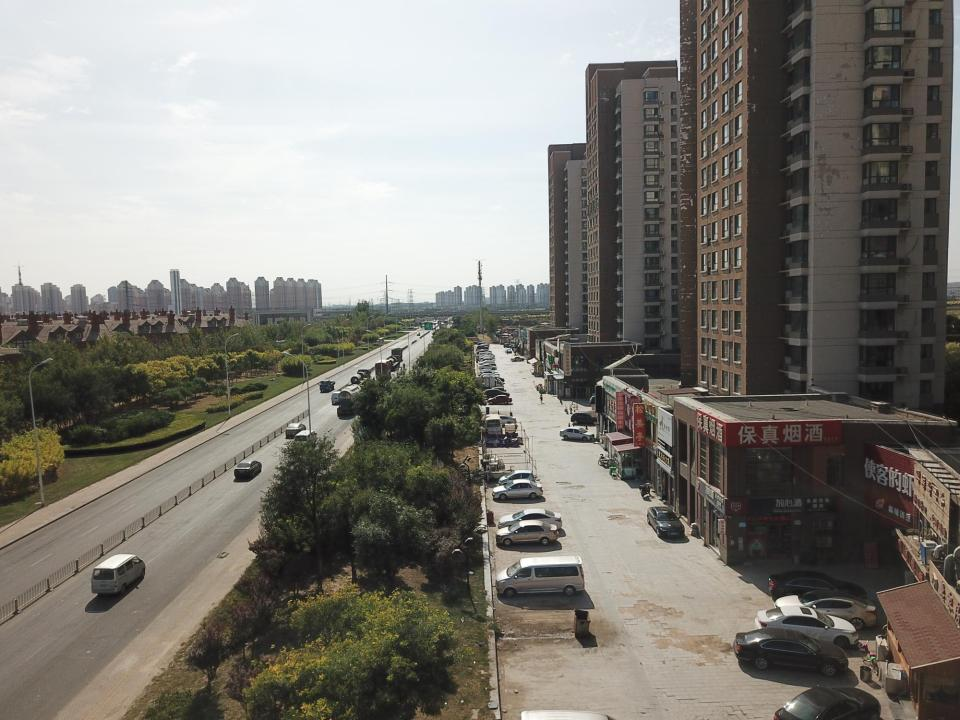car: (722, 628, 850, 679), (754, 600, 862, 652), (772, 587, 884, 632), (767, 683, 888, 720), (764, 568, 876, 604), (495, 508, 567, 529), (646, 506, 686, 538), (491, 478, 544, 502), (230, 455, 263, 481), (498, 469, 537, 487), (558, 426, 595, 443), (281, 417, 308, 435), (294, 426, 317, 446), (570, 411, 599, 426), (482, 414, 517, 426), (486, 395, 513, 406), (510, 356, 526, 362), (504, 348, 512, 354)
truck: (374, 358, 391, 381), (317, 378, 336, 392), (391, 346, 403, 361)
van: (495, 554, 591, 601), (89, 552, 149, 599), (494, 518, 562, 550), (483, 414, 503, 437), (481, 386, 511, 398), (330, 390, 341, 405), (503, 341, 518, 348)
